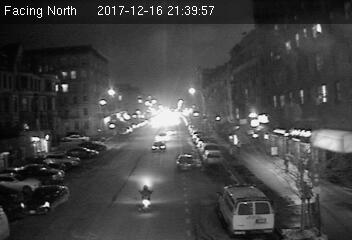car: (18, 184, 71, 215), (176, 153, 197, 172), (203, 150, 221, 166), (150, 140, 167, 154)
police: (214, 182, 274, 233)
